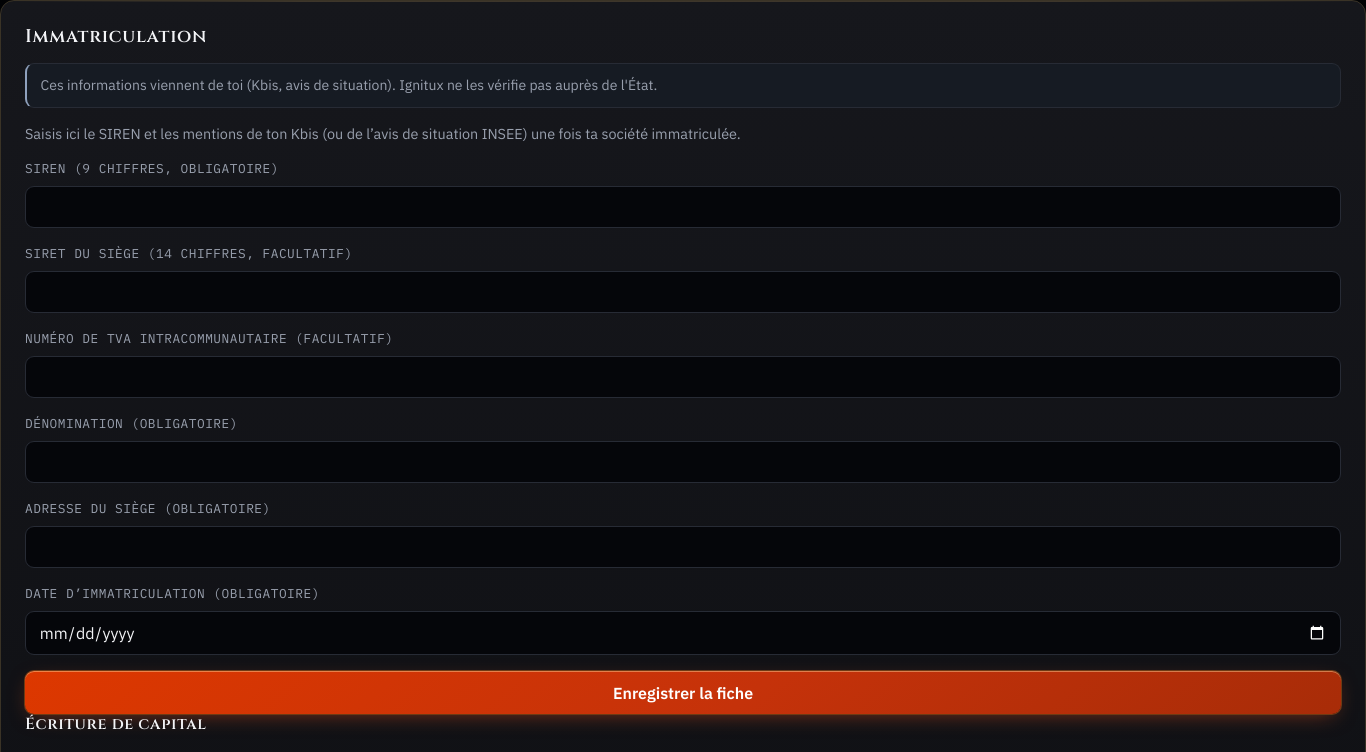
Test: ImmatriculationSection › montre le conflit (409) du serveur : SIREN déjà utilisé ailleurs
Type "732829320" into the field labelled "SIREN (9 chiffres, obligatoire)". click: (683, 207)
box: [25,186,1341,228]
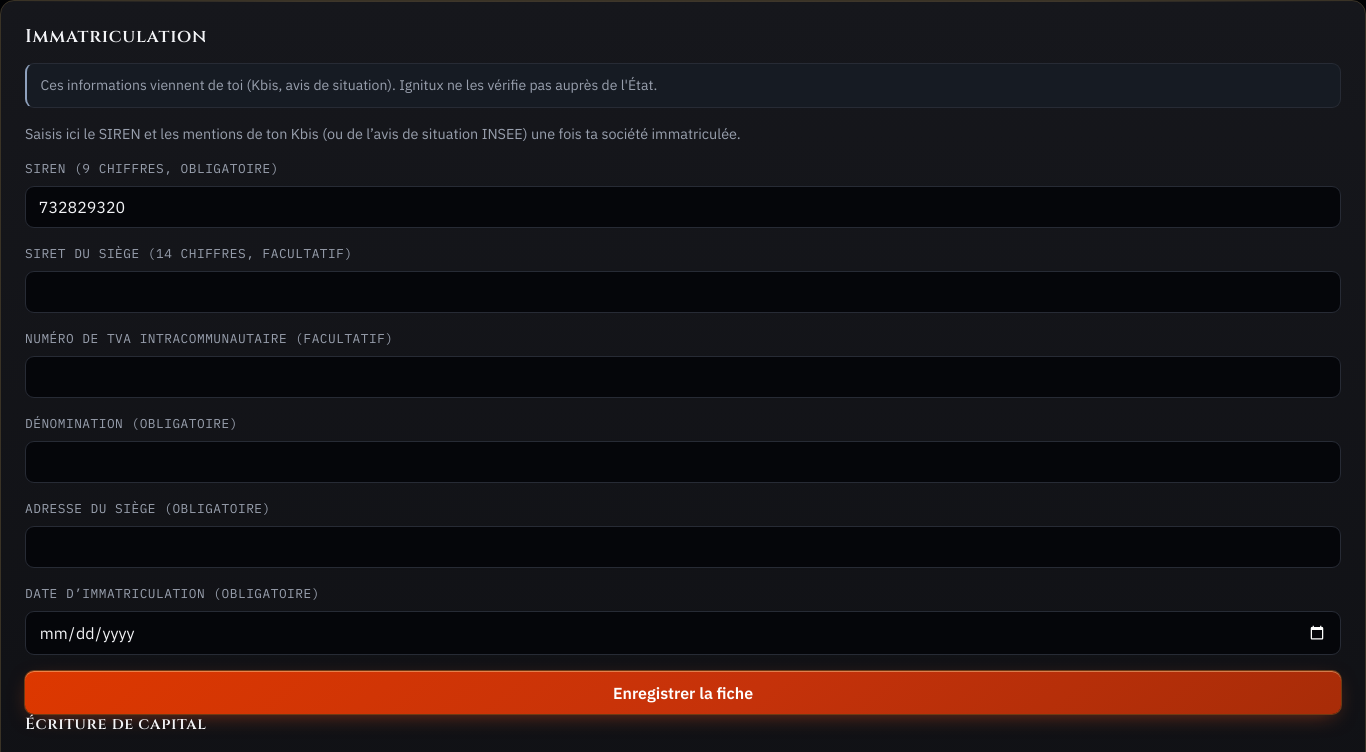
Type "Moto École SAS" into the field labelled "Dénomination (obligatoire)". click: (683, 462)
box: [25,441,1341,483]
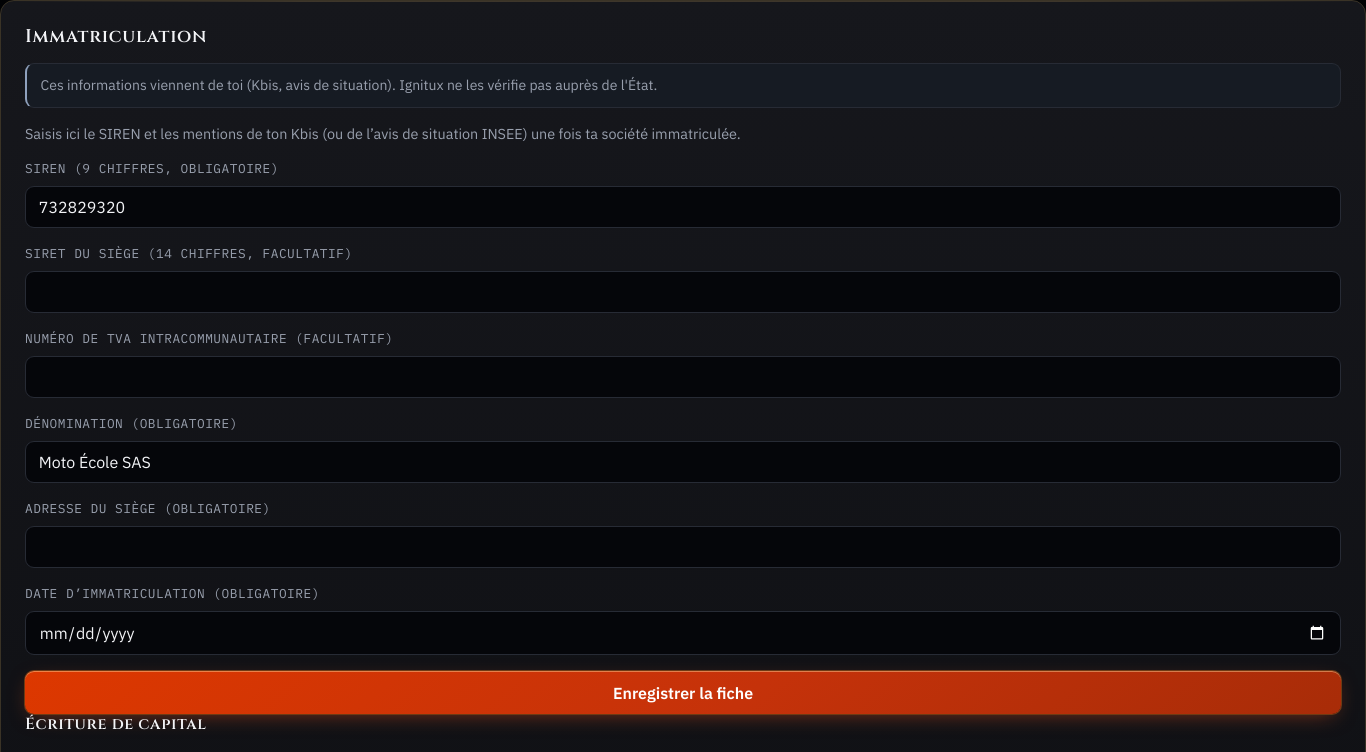
Type "1 rue de la Piste" into the field labelled "Adresse du siège (obligatoire)". click: (683, 547)
box: [25,526,1341,568]
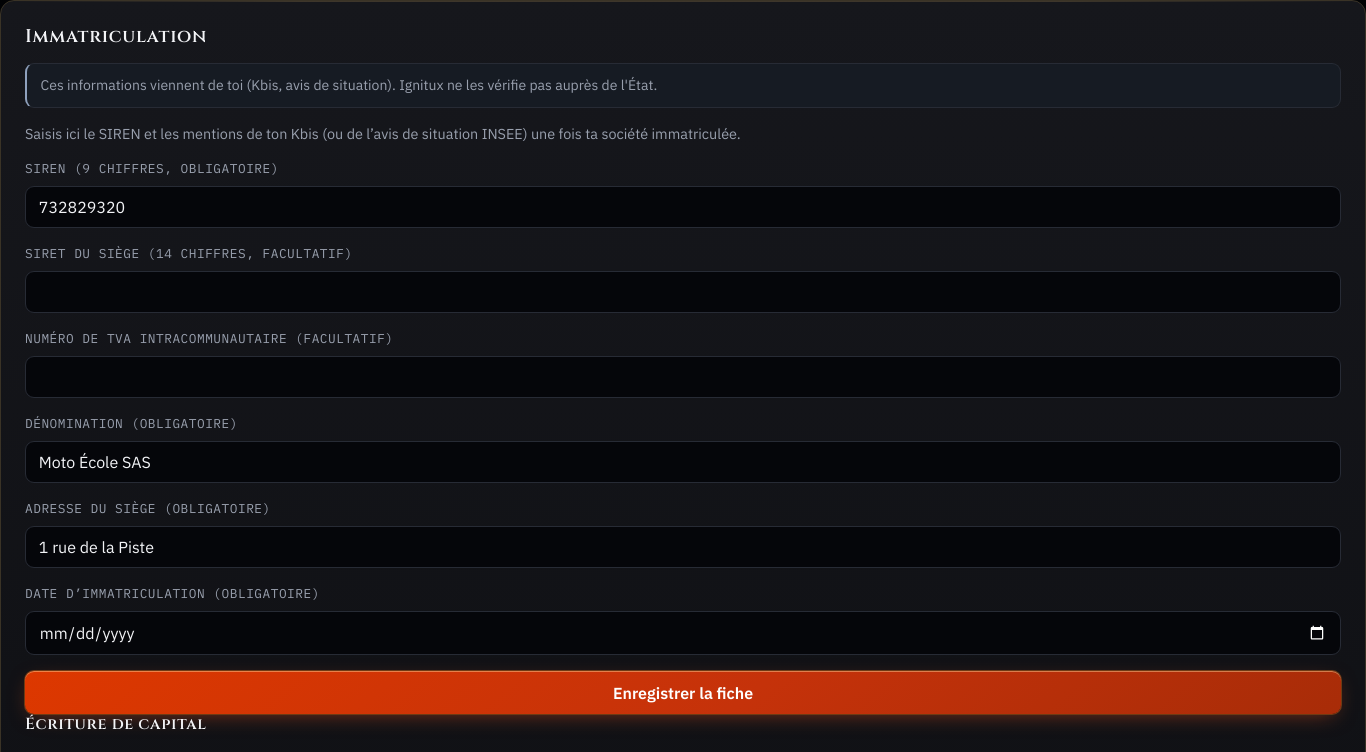
Type "2026-10-01" into the date field labelled "Date d’immatriculation (obligatoire)". click: (683, 633)
box: [25,611,1341,655]
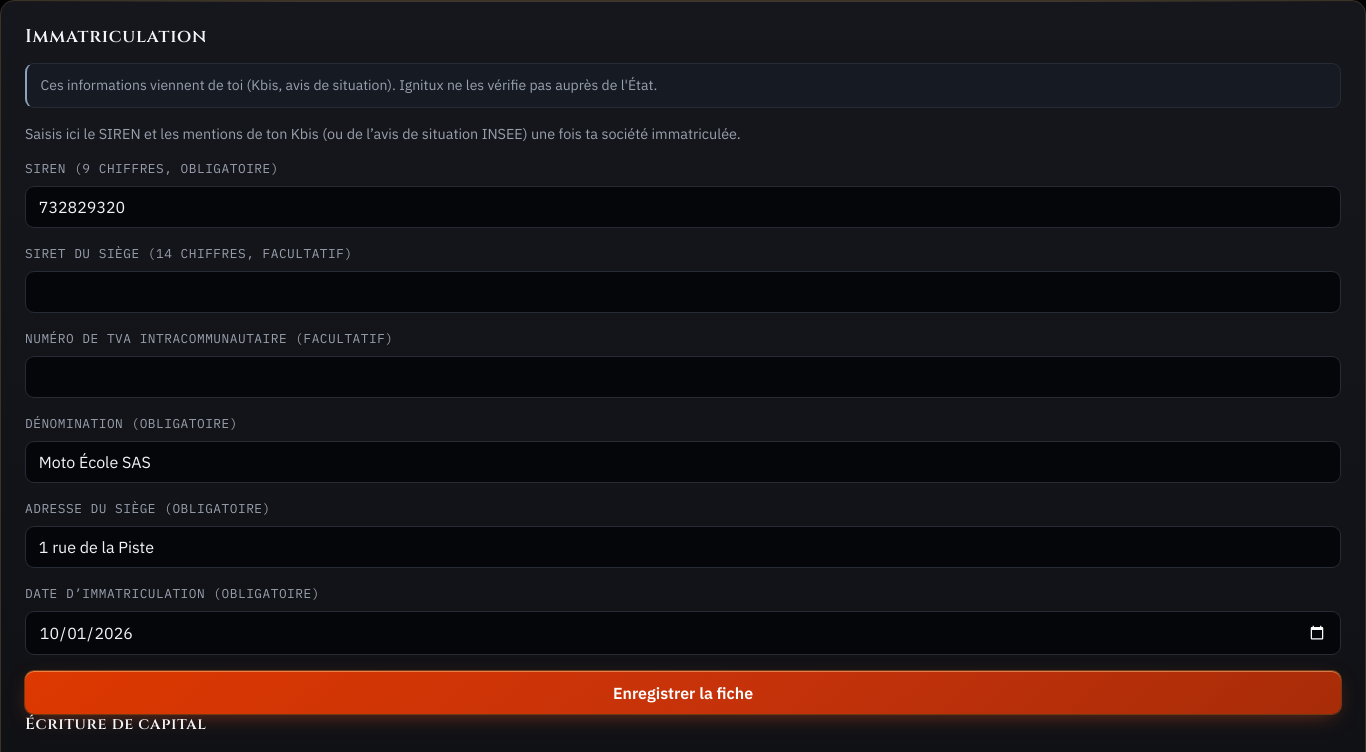
Click the button "Enregistrer la fiche". click: (683, 693)
box: [25,671,1341,714]
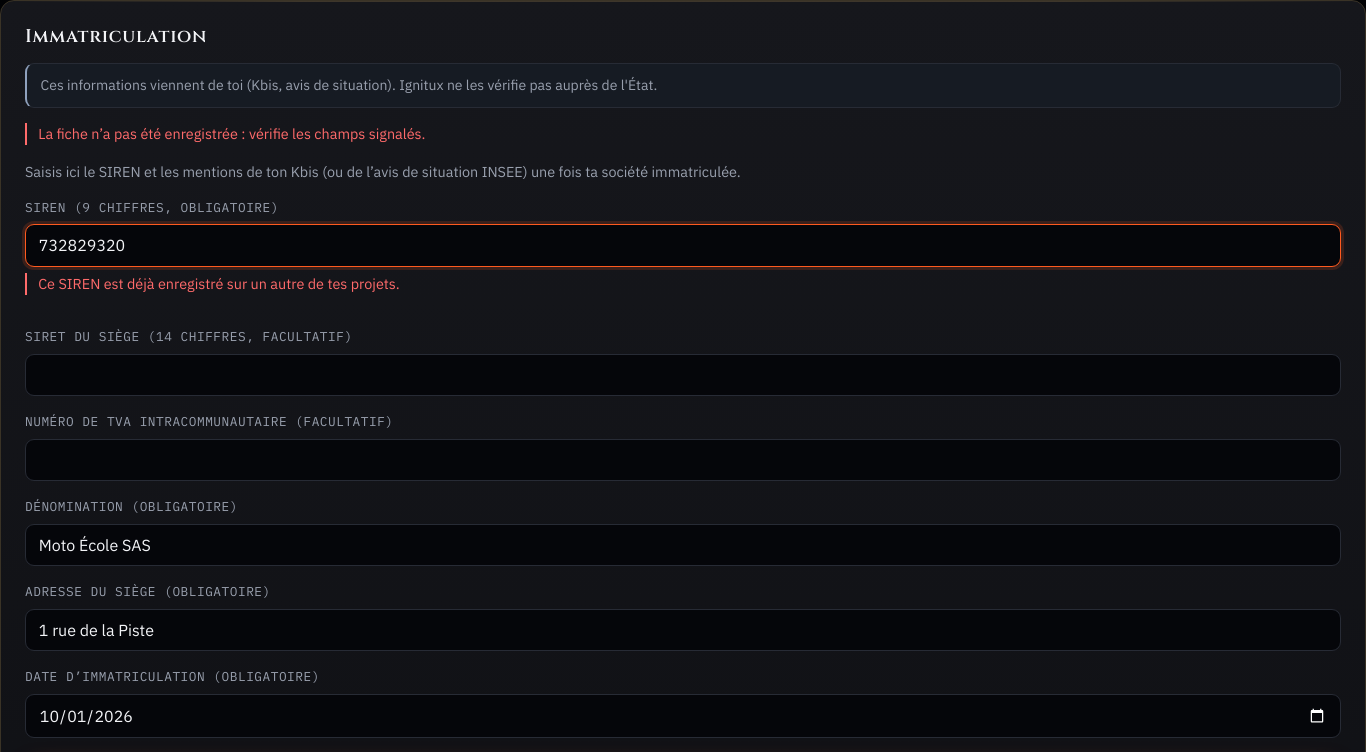
Now the text "Ce SIREN est déjà enregistré sur un autre de tes projets." is shown, box [25,273,1341,295]
